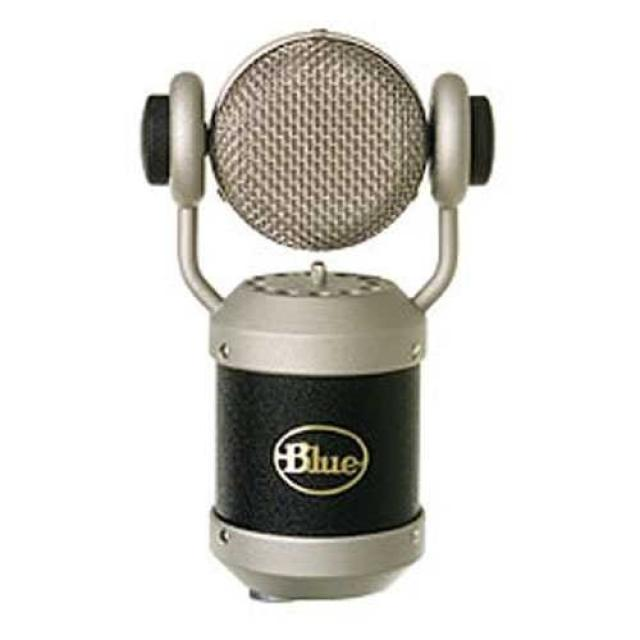microphone: (112, 40, 604, 610)
